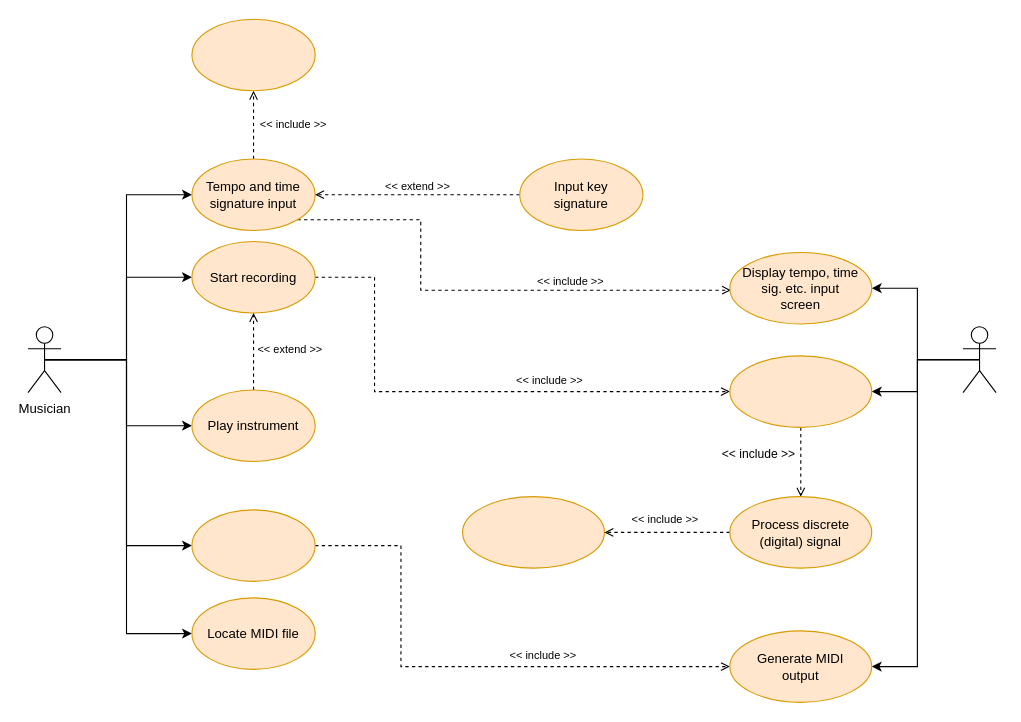
This 1021x722 diagram has some shape labels left out. Each missing label, with the centre of its shape:
Determine individual note lengths and pitches: (532,532)
Sample & convert analog signal: (800,391)
Set file output destination: (253,54)
Stop recording: (253,545)
System: (979,359)
